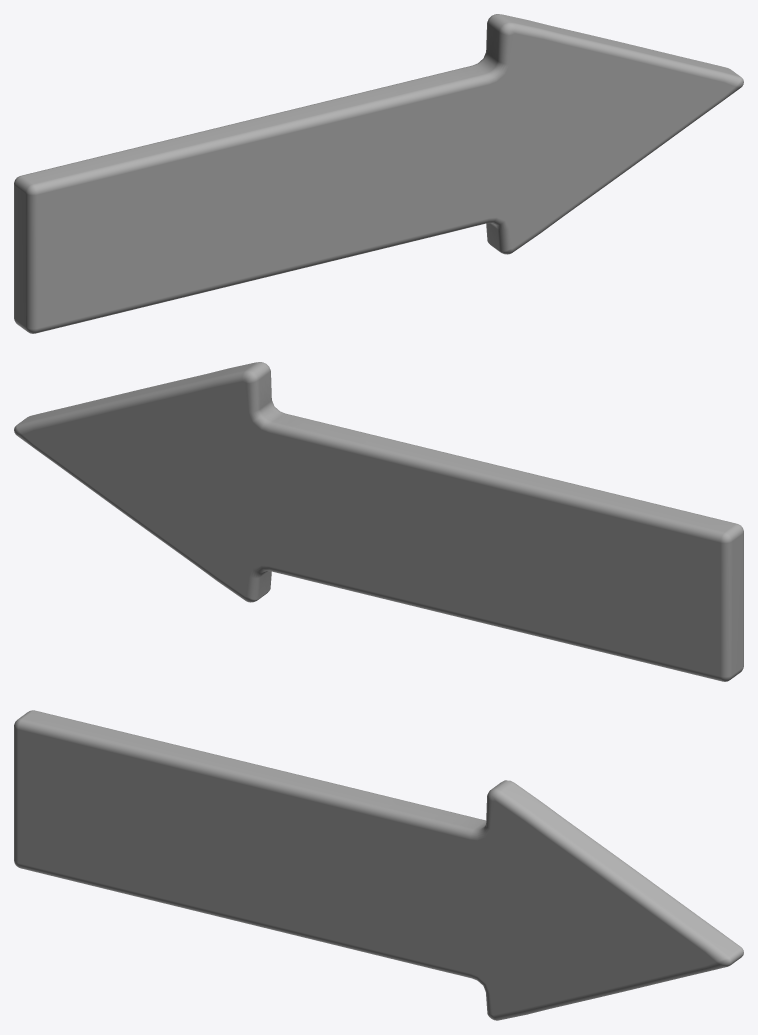
The model's file is Flechagris.glb.
The picture shows the model from 3 angles, top to bottom: view 1: azimuth 30°, elevation 25°; view 2: azimuth 150°, elevation 25°; view 3: azimuth 330°, elevation 25°; orthographic projection.
Parts seen in each view (by area): view 1: straight_thick.1; view 2: straight_thick.1; view 3: straight_thick.1.
Part boxes in pixels (x1,y1,x2,y2): straight_thick.1: [14, 14, 743, 333]; straight_thick.1: [14, 362, 743, 681]; straight_thick.1: [14, 710, 743, 1020].
Size of the model in its own units: 0.4746 by 0.1462 by 0.0219.
1 material, 1 textured.
